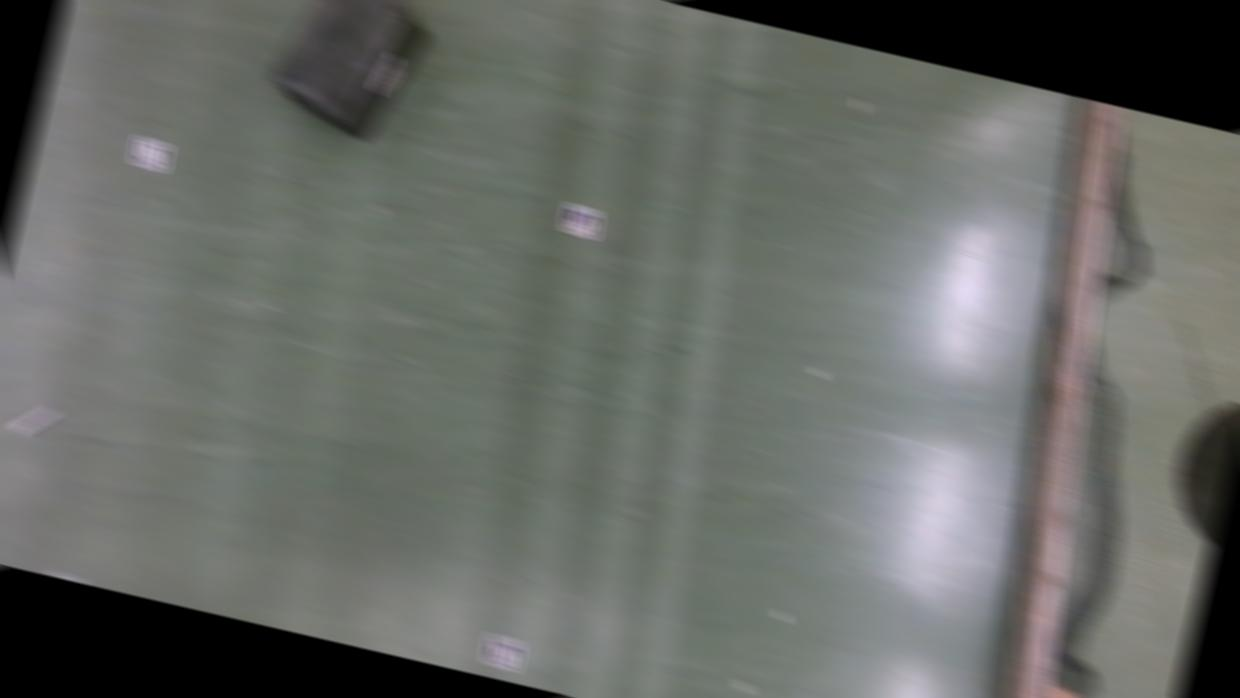probes: (11, 398, 60, 442)
rako: (259, 0, 439, 148)
